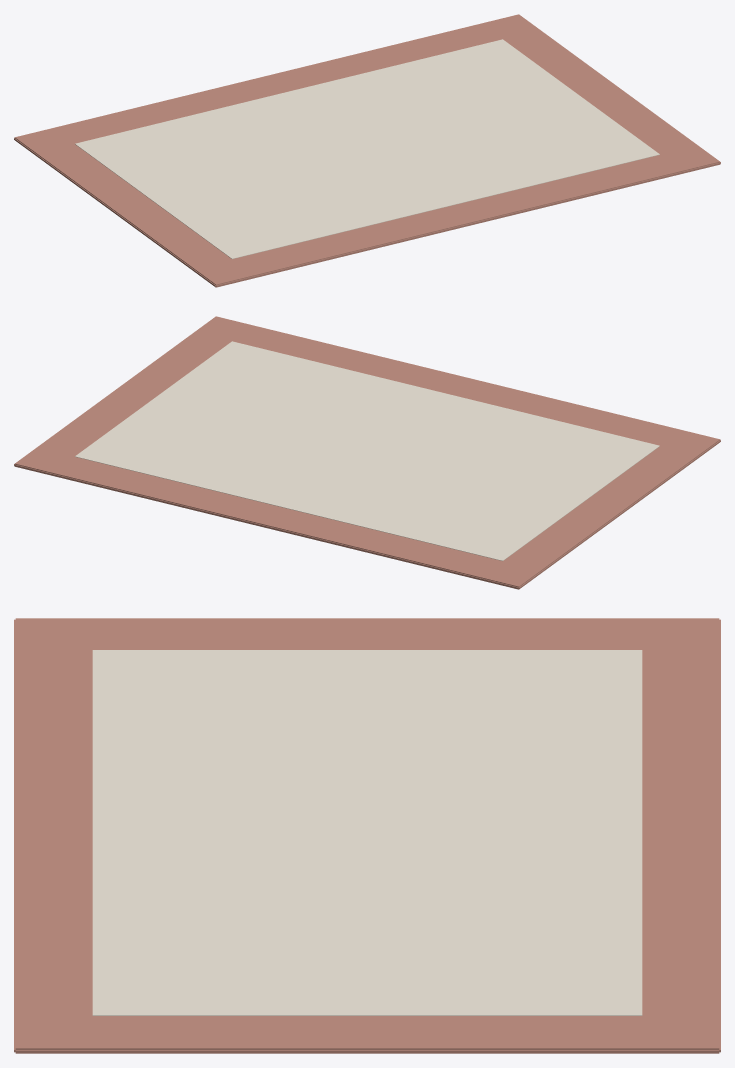
File: rug_livingroom.glb
The picture shows the model from 3 angles, top to bottom: view 1: azimuth 30°, elevation 25°; view 2: azimuth 150°, elevation 25°; view 3: azimuth 270°, elevation 25°; orthographic projection. The views are drawn at different scales.
Parts seen in each view (by area): view 1: rug_livingroom; view 2: rug_livingroom; view 3: rug_livingroom.
Part boxes in pixels (box(x1,y1,x2,y2)): rug_livingroom: box(14, 14, 720, 287); rug_livingroom: box(14, 316, 720, 589); rug_livingroom: box(14, 618, 720, 1053).
Size of the model in its own units: 2.6 by 0.017 by 1.8.
